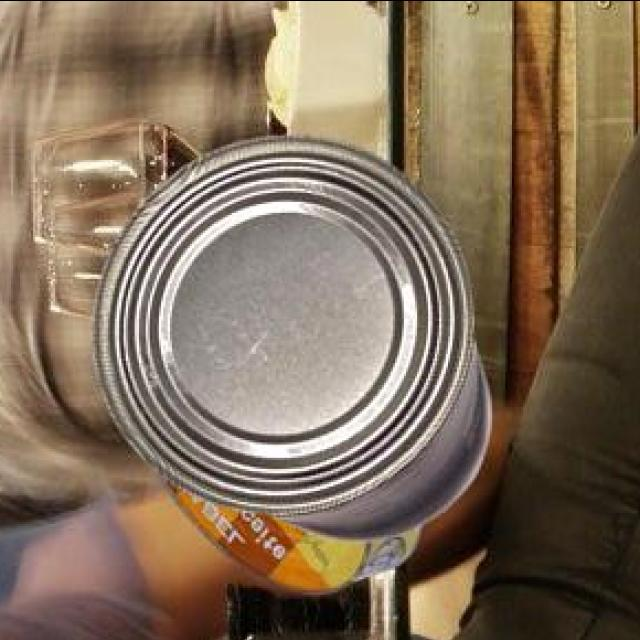logam: (89, 131, 487, 535), (156, 470, 418, 588)
